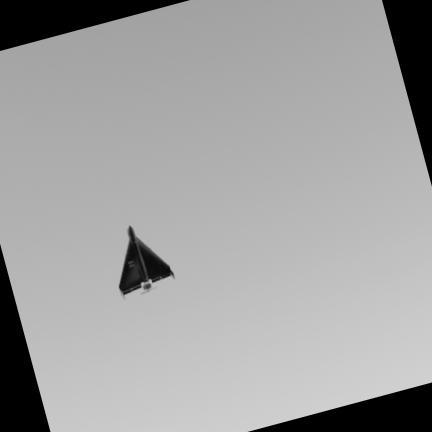Shahed: (119, 225, 173, 296)
